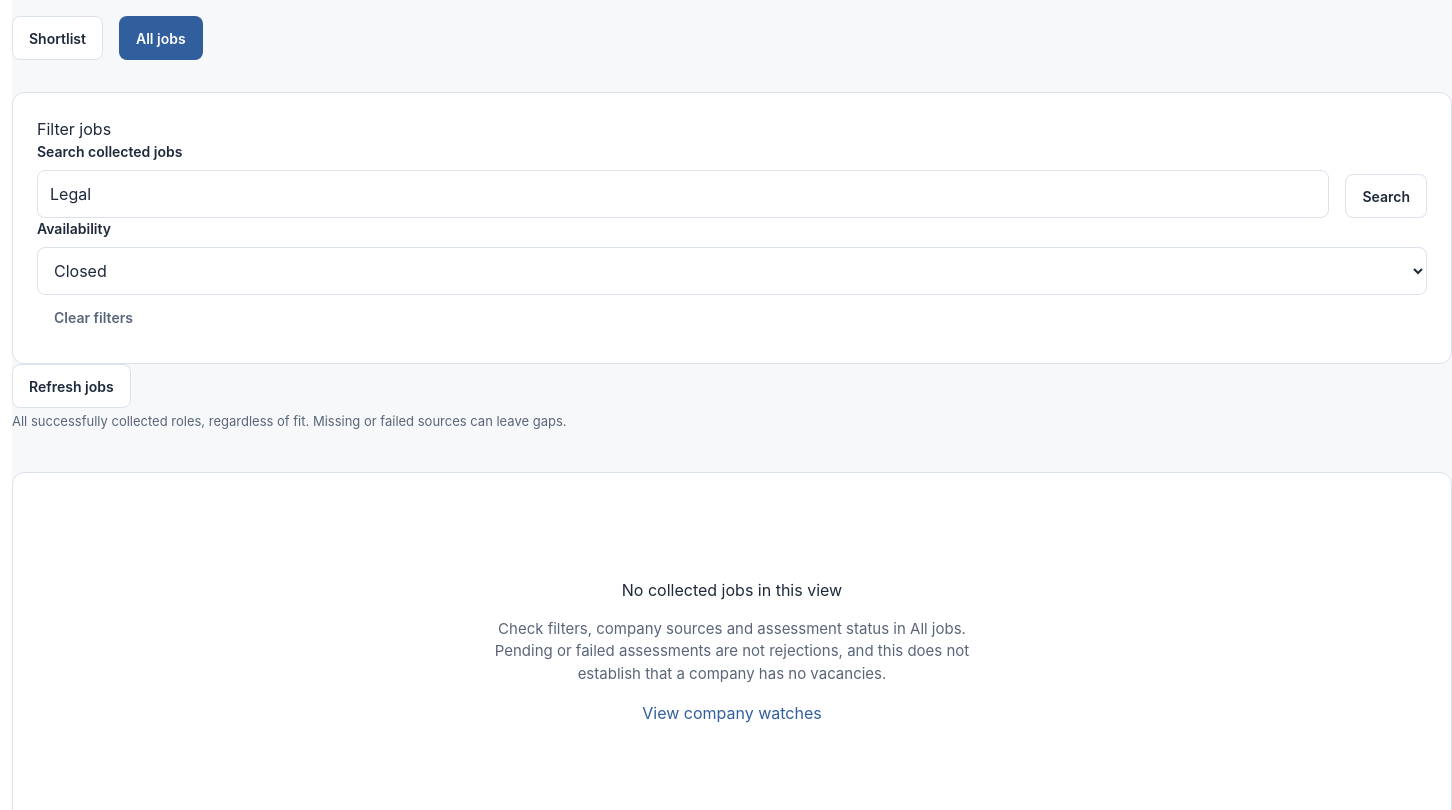
it: company scope survives clear filters and cannot be replaced by URL company_id
The image size is (1452, 810).
Expected: the heading "No collected jobs in this view" is shown, [622,578,842,602]
Click the button "Clear filters" at point(93, 317), box [37,295,150,339]
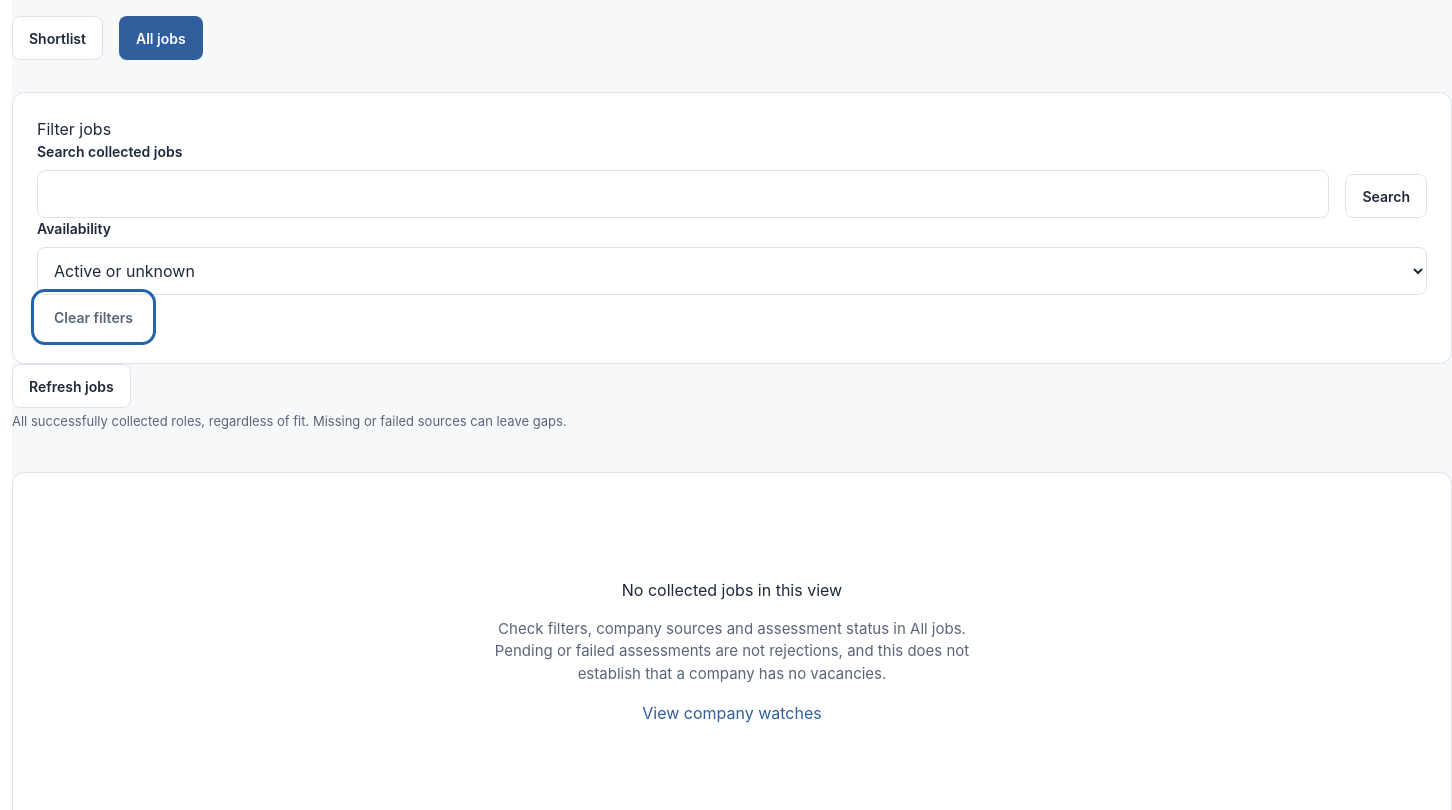
Expected: the dropdown labelled "Availability" shows "Active or unknown", [37,247,1427,295]
Expected: the field labelled "Search collected jobs" is empty, [37,170,1330,218]
